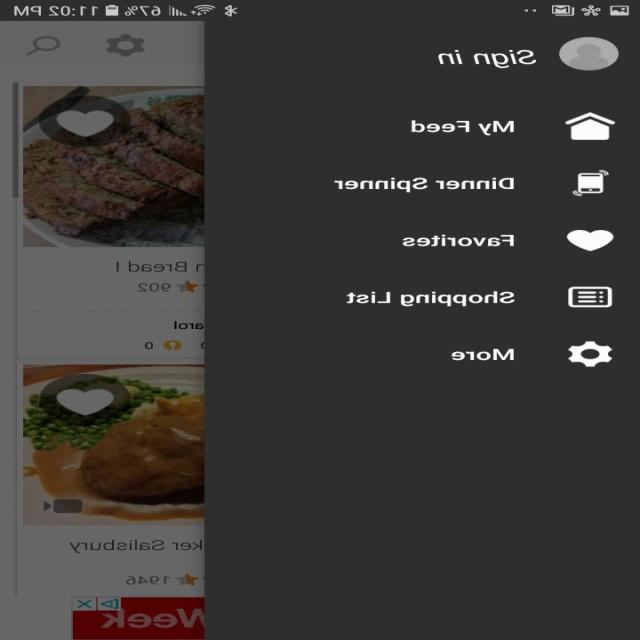Drawer: (205, 21, 640, 639)
Icon: (559, 36, 620, 71), (564, 111, 616, 140), (567, 340, 613, 367), (566, 229, 614, 251), (568, 286, 614, 307)
Image: (572, 170, 610, 196)
Text: (347, 290, 516, 307), (334, 177, 514, 192), (438, 50, 537, 68), (412, 119, 514, 136), (402, 234, 514, 246), (452, 348, 514, 361)
